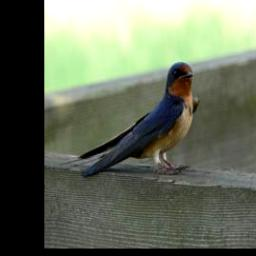Swallow: (57, 59, 200, 180)
